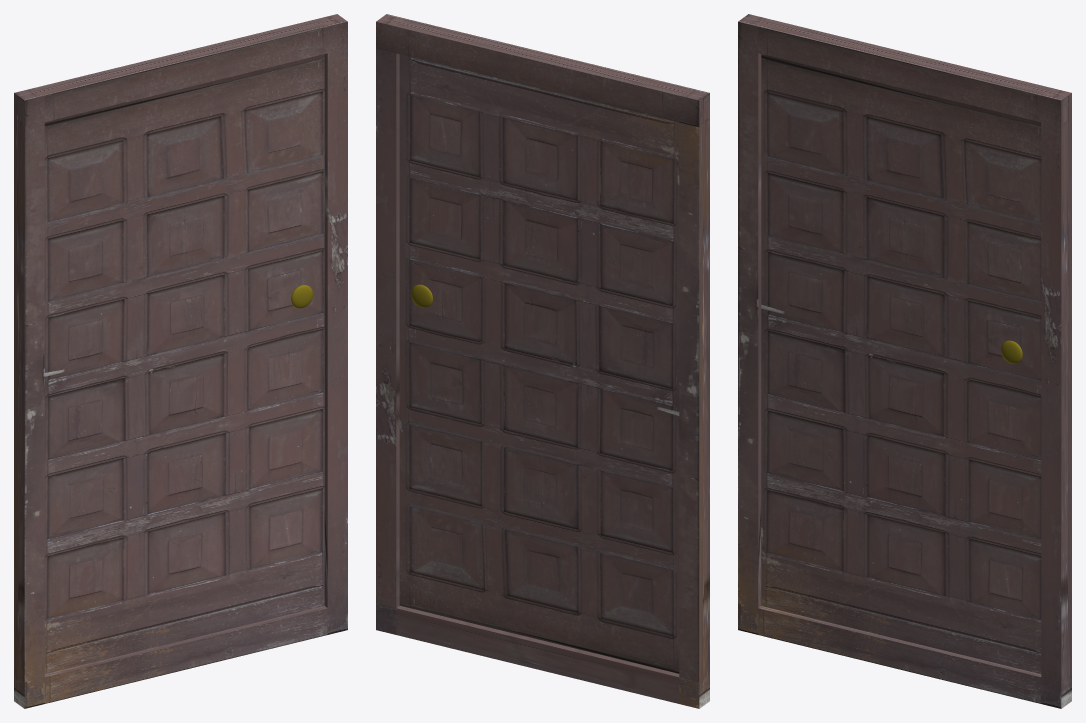
The model's file is Temporary_Door.fbx.
3 views of the same model, side by side, from view 1: azimuth 30°, elevation 25°; view 2: azimuth 150°, elevation 25°; view 3: azimuth 330°, elevation 25° (orthographic).
Visible parts, largest first — view 1: pSphere3; view 2: pSphere3; view 3: pSphere3.
Boxes of the visible parts, box(x1,y1,x2,y2) form: pSphere3: box(14, 14, 347, 708); pSphere3: box(376, 14, 709, 708); pSphere3: box(738, 14, 1071, 708).
Size of the model in its own units: 1.34 by 2.42 by 0.1264.
